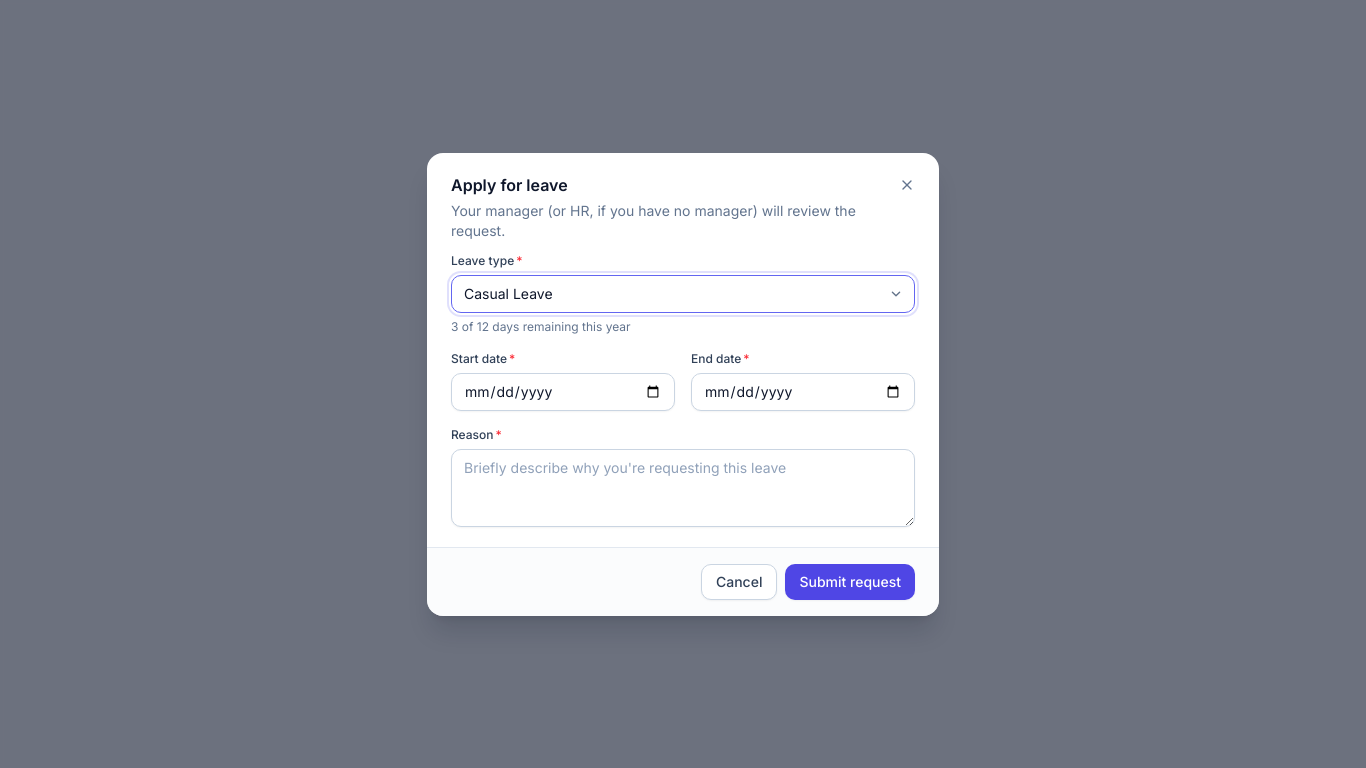
Scenario: LeaveFormModal › marks unpaid leave types and shows the remaining balance hint for the selected type
The width and height of the screenshot is (1366, 768).
Expected: the text "3 of 12 days remaining this year" is shown, [451,318,630,334]
Select "Loss of Pay (unpaid)" in the dropdown labelled "Leave type*" at [683, 294], box [451,274,915,312]
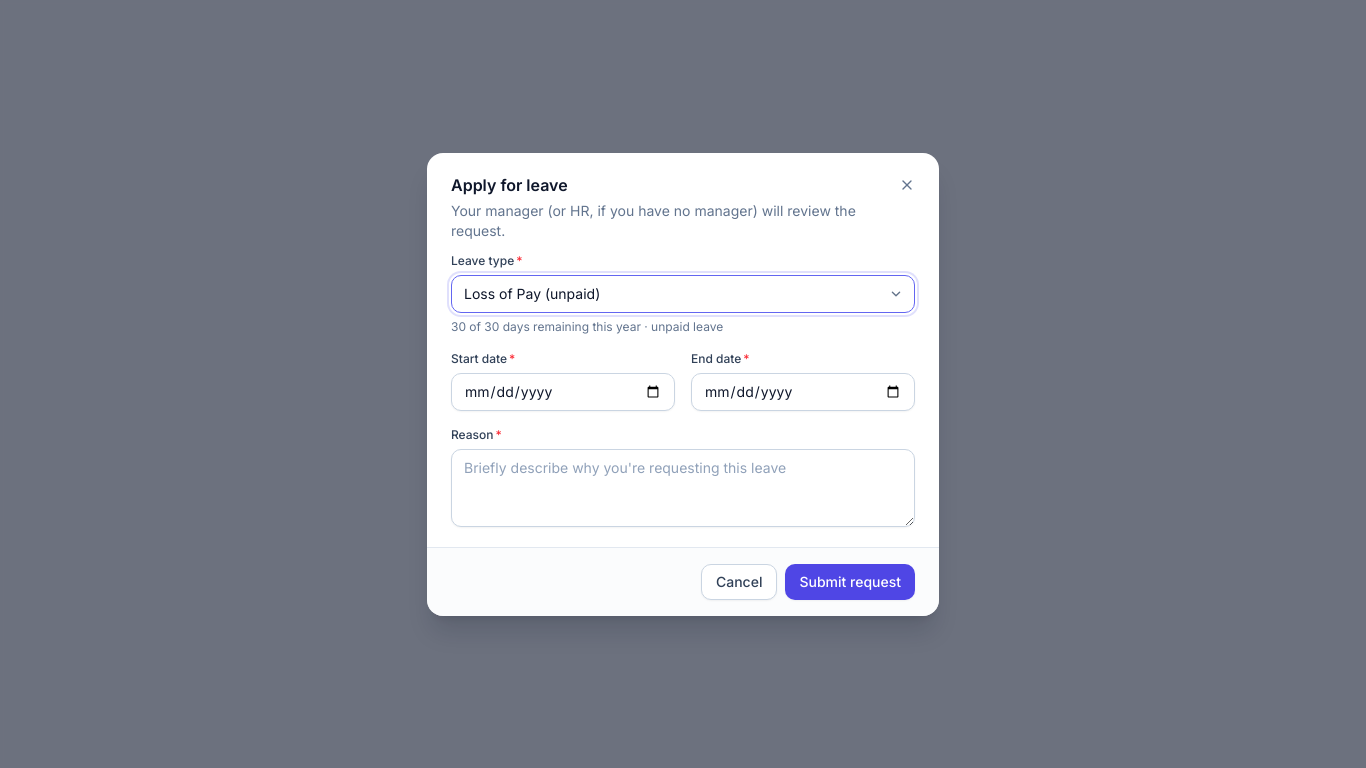
Result: the text "30 of 30 days remaining this year · unpaid leave" is shown at [451,318,723,334]
